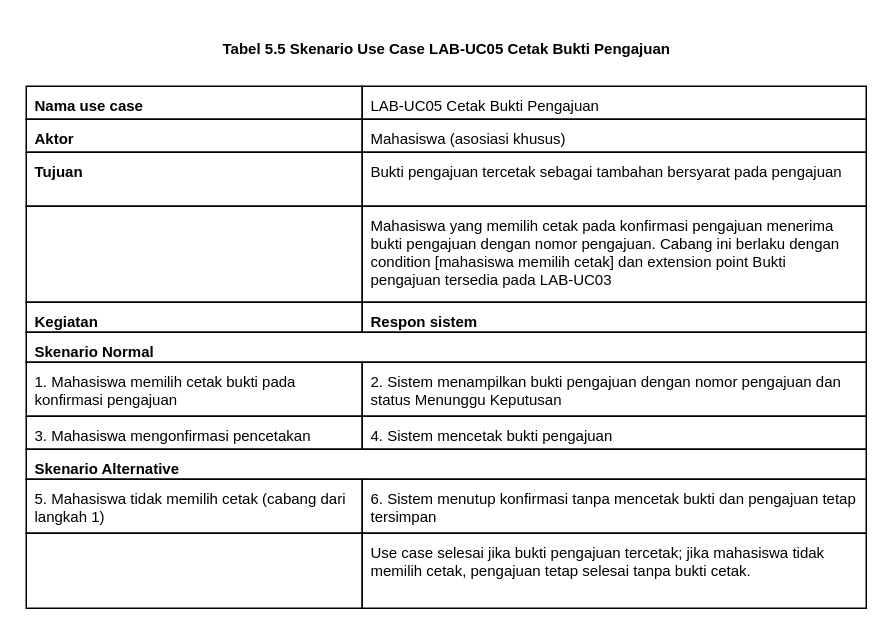
Image size: 893x635. Some labels were removed from this diagram. Here are the shapes that lost their labels. From the top down, the box of each, then its label:
(25, 205, 362, 302): Deskripsi
(25, 532, 362, 608): Skenario Akhir
